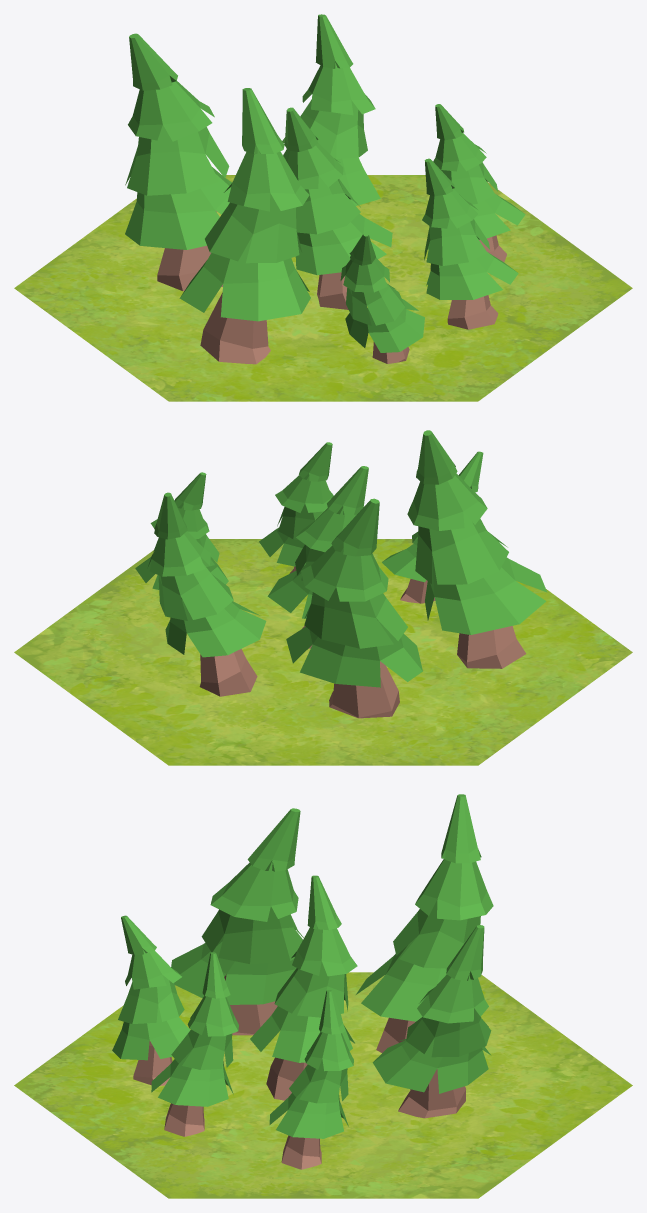
File: drzewkauv.fbx
The picture shows the model from 3 angles, top to bottom: view 1: azimuth 30°, elevation 25°; view 2: azimuth 150°, elevation 25°; view 3: azimuth 270°, elevation 25°; orthographic projection.
Visible parts, largest first — view 1: Cylinder.002; view 2: Cylinder.002; view 3: Cylinder.002.
Boxes of the visible parts, bbox=[...] form: Cylinder.002: bbox=[14, 14, 632, 401]; Cylinder.002: bbox=[14, 430, 632, 765]; Cylinder.002: bbox=[14, 794, 632, 1198].
Size of the model in its own units: 0.866 by 0.446 by 1.
